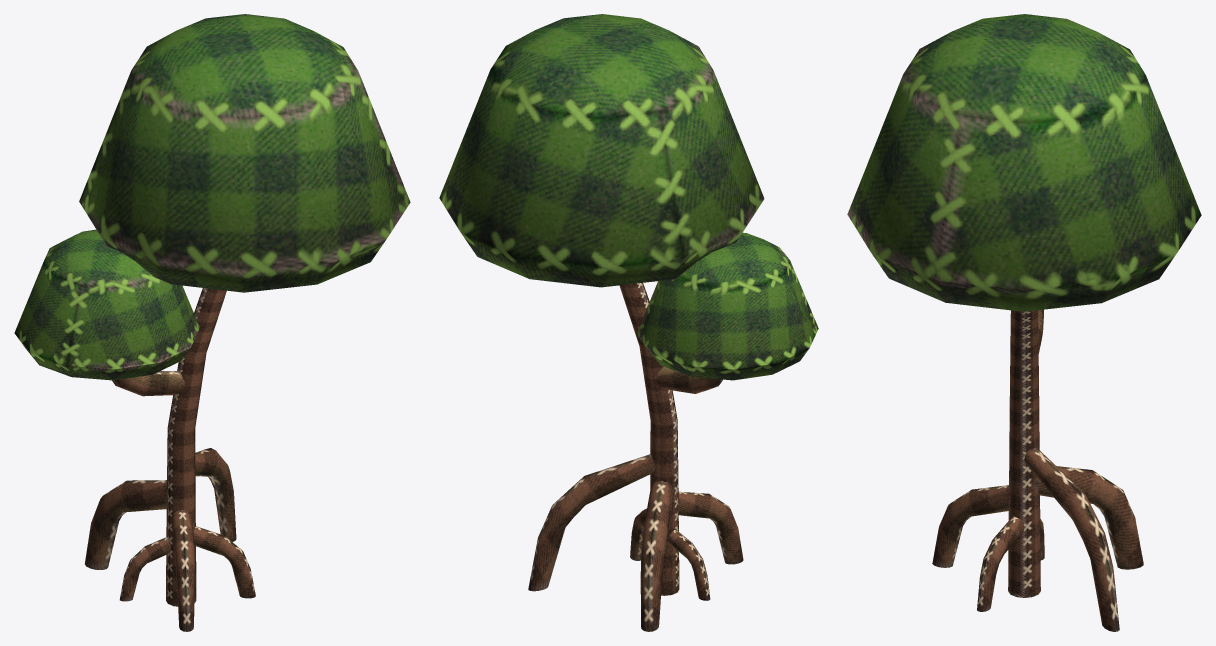
The model's file is lpb_cs_tree27.fbx.
The picture shows the model from 3 angles, left to right: view 1: azimuth 30°, elevation 25°; view 2: azimuth 150°, elevation 25°; view 3: azimuth 270°, elevation 25°; orthographic projection. The views are drawn at different scales.
Parts seen in each view (by area): view 1: lpb_cs_tree27; view 2: lpb_cs_tree27; view 3: lpb_cs_tree27.
Part boxes in pixels (left/top/right/bottom): lpb_cs_tree27: left=14, top=14, right=410, bottom=631; lpb_cs_tree27: left=439, top=14, right=818, bottom=631; lpb_cs_tree27: left=847, top=14, right=1201, bottom=631.
Size of the model in its own units: 139 by 203 by 112.
